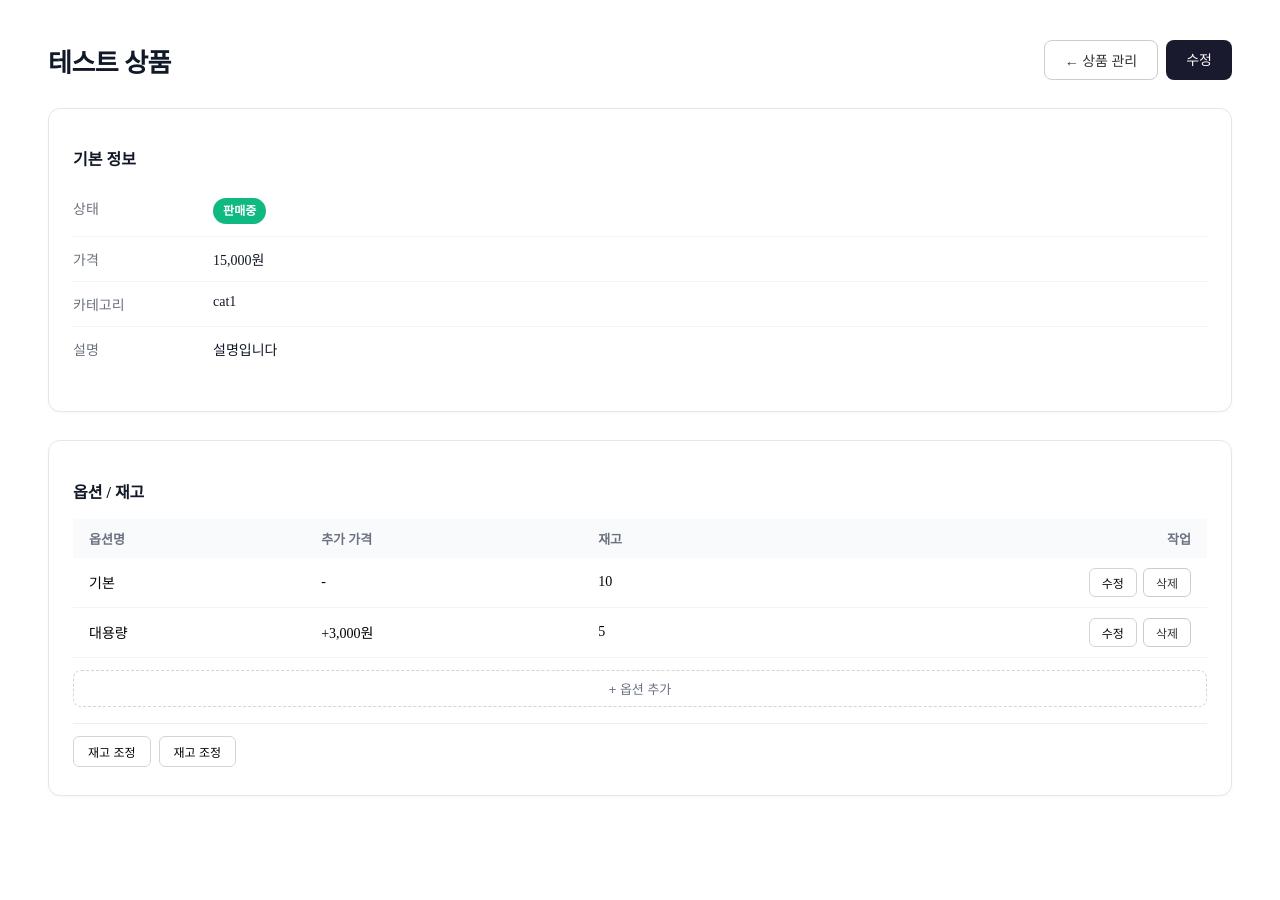
Test: ProductDetail › 재고 조정 버튼 클릭 시 폼을 표시한다
The width and height of the screenshot is (1280, 900).
Expected: the text "기본" is shown, [73, 558, 305, 607]
Click the 1st button "재고 조정": (112, 751) [73, 736, 150, 766]
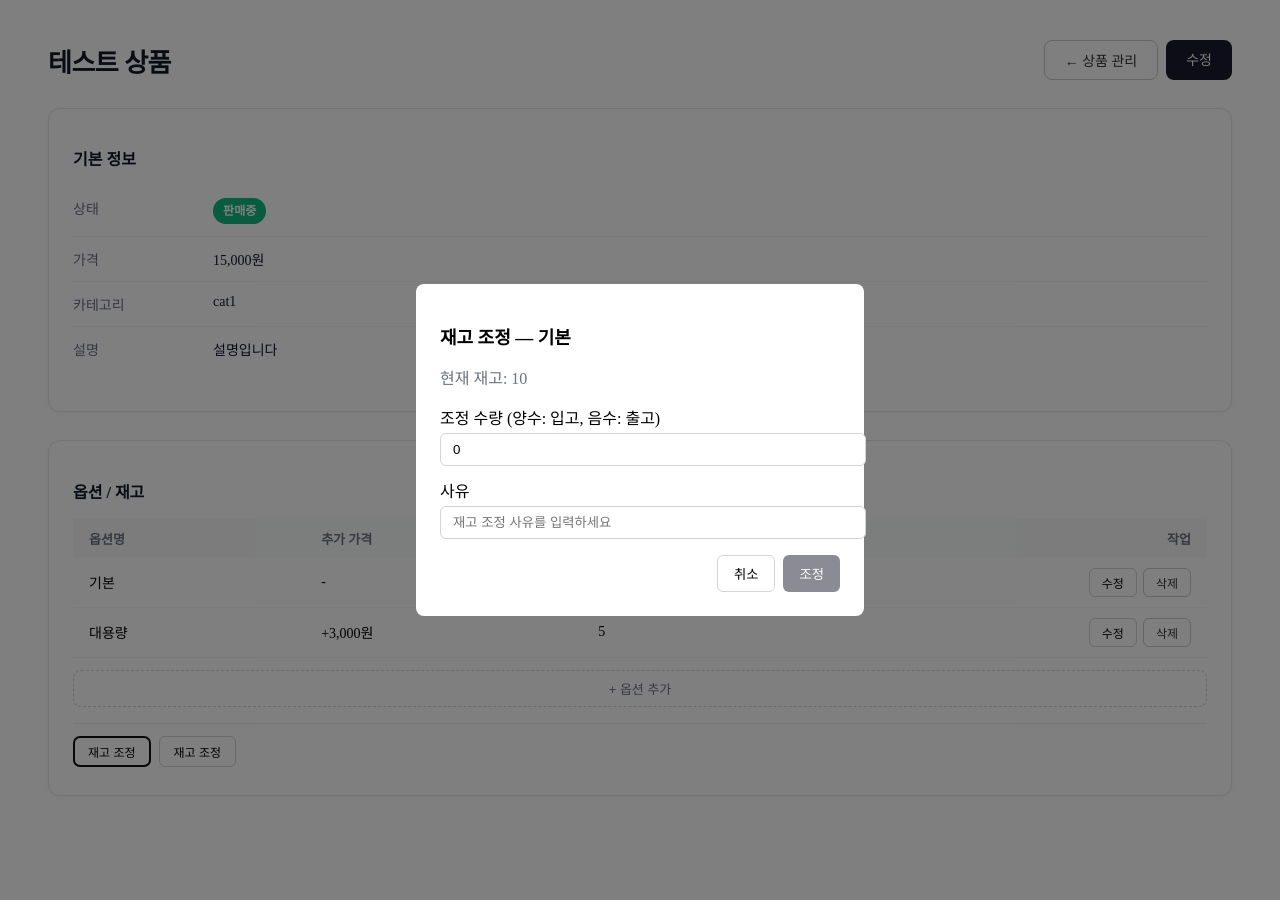
Expected: the dialog is shown
Expected: the heading "재고 조정 — 기본" is shown, [440, 328, 571, 348]
